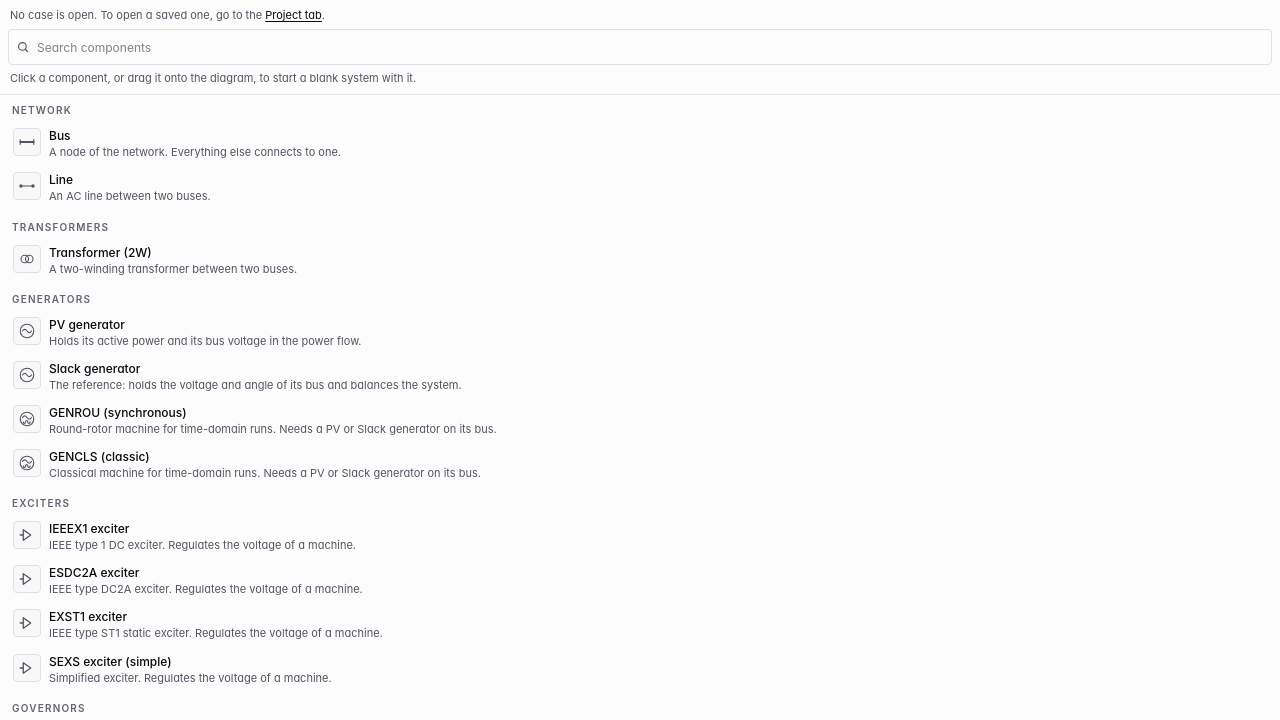
Scenario: <ComponentLibrary /> search › says that nothing matches, names what was typed and offers the whole list back
Type "flux capacitor" into the field with test id "component-library-search" at (640, 47), box left=8, top=29, right=1272, bottom=65
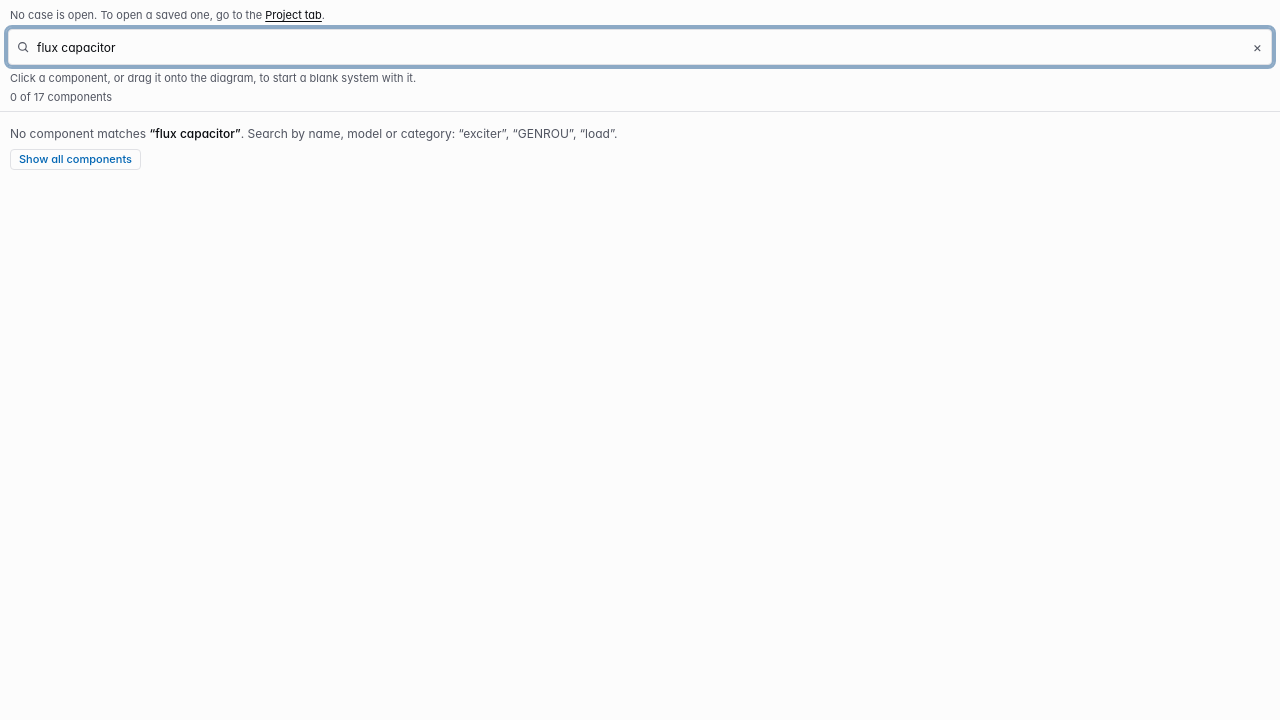
Check: the element with test id "component-library-empty" shows "No component matches “flux capacitor”.", box left=10, top=126, right=617, bottom=170
Check: the element with test id "component-library-empty" shows "Search by name, model or category", box left=241, top=126, right=617, bottom=141
Click the button "Show all components" at (76, 159), box left=10, top=149, right=141, bottom=170
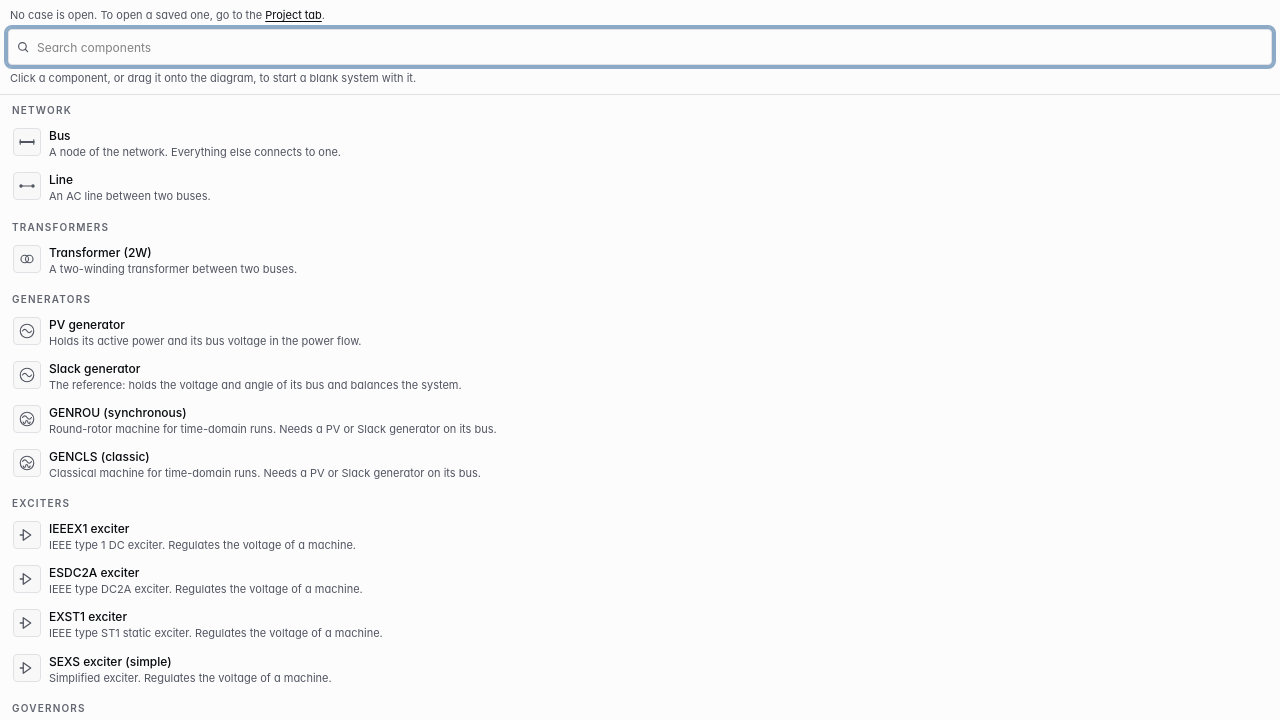
Check: the field with test id "component-library-search" is empty, box left=8, top=29, right=1272, bottom=65
Check: the element with test id "component-library-empty" is gone
